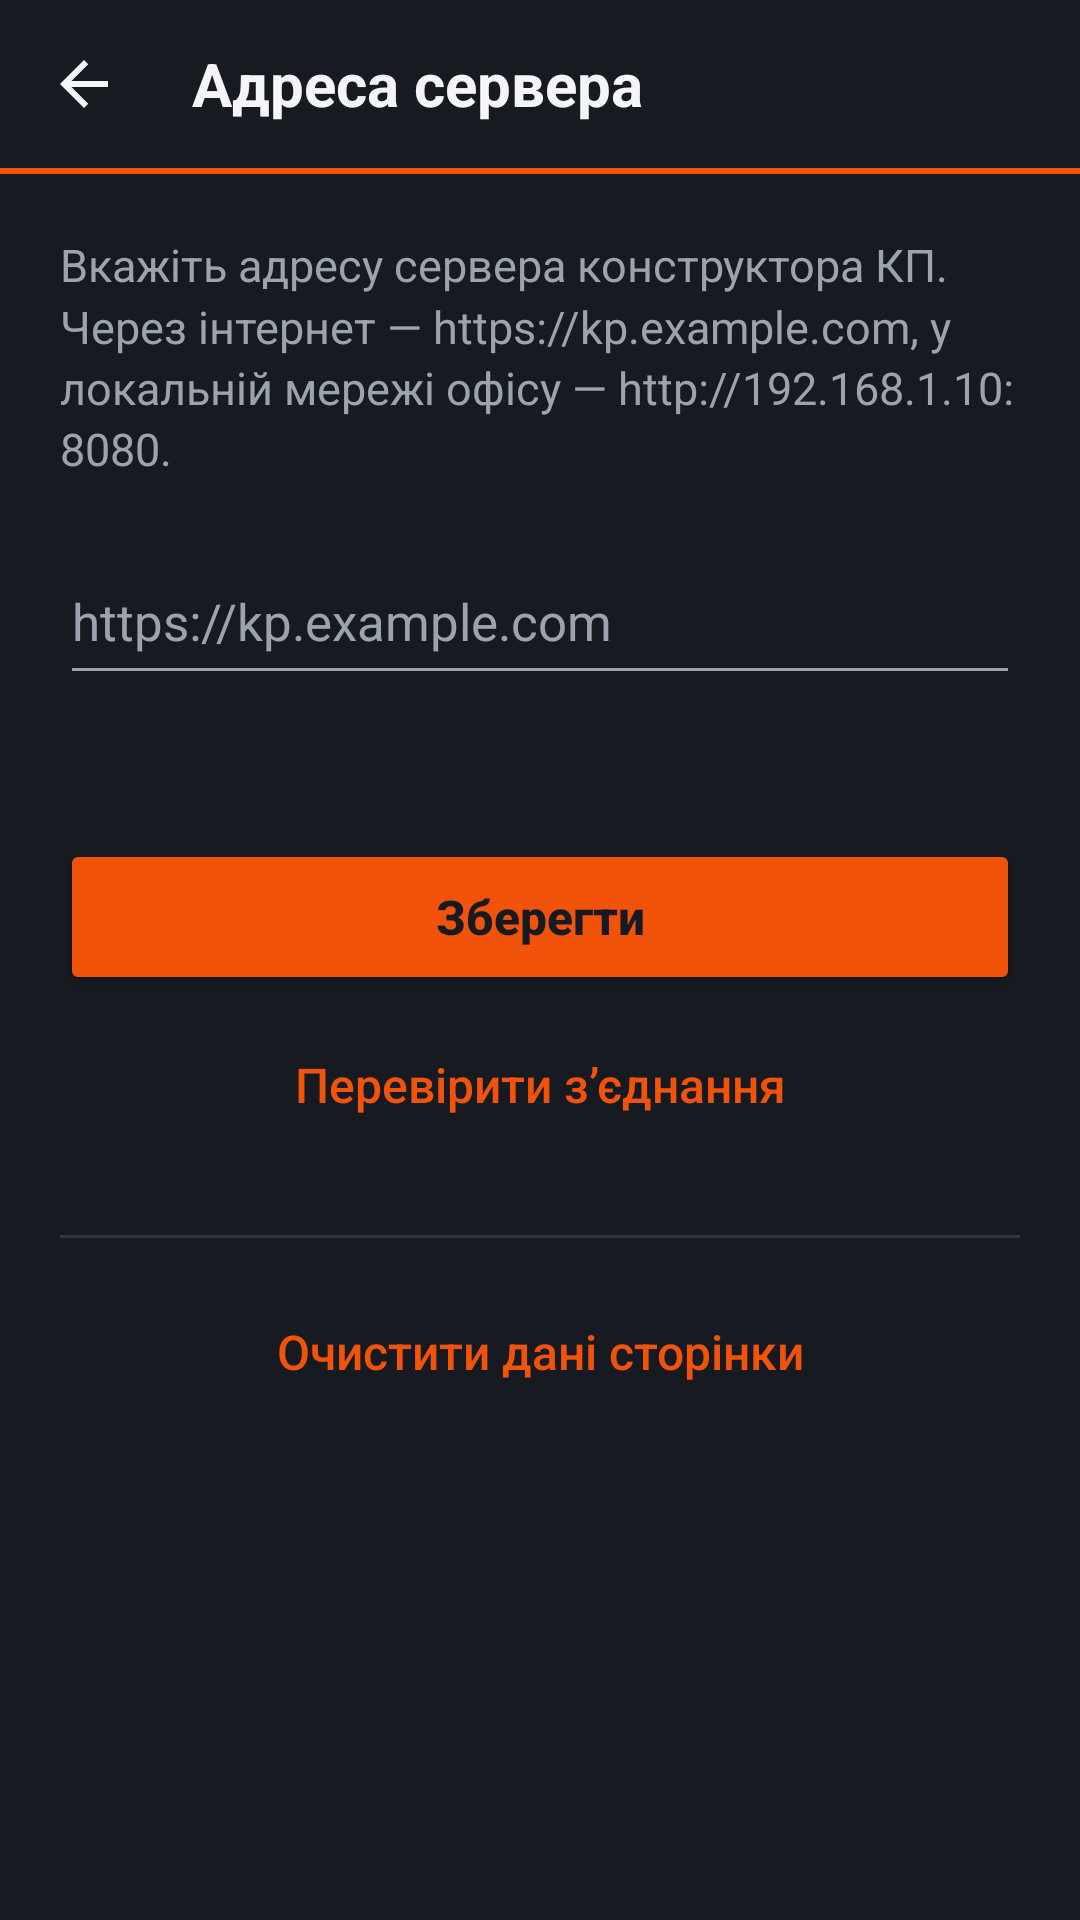

Icons on this 1080x1920 Android screen, each with its box as (x1, y1, x2, y2):
Назад: (60, 60, 108, 108)
